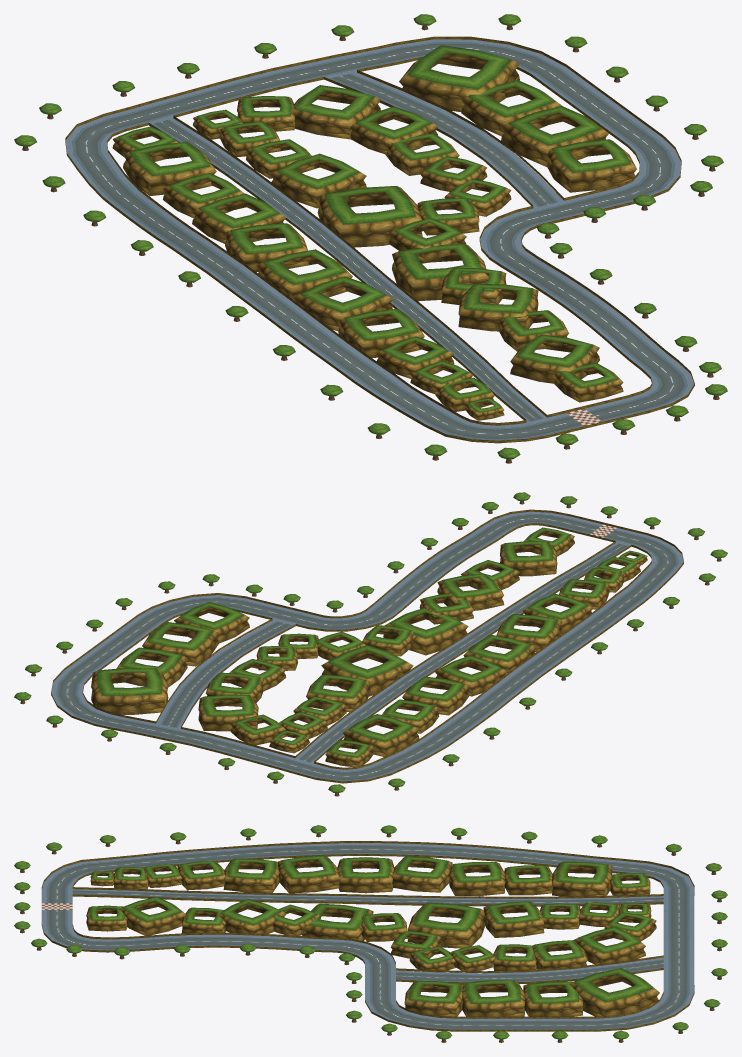
File: track02_1.FBX
The picture shows the model from 3 angles, top to bottom: view 1: azimuth 30°, elevation 25°; view 2: azimuth 150°, elevation 25°; view 3: azimuth 270°, elevation 25°; orthographic projection. The views are drawn at different scales.
Visible parts, largest first — view 1: background_cliff, track, fence, background_tree; view 2: background_cliff, track, fence, background_tree; view 3: background_cliff, track, fence, background_tree.
Boxes of the visible parts, x1=… form: background_cliff: x1=112, y1=45, x2=636, y2=420; track: x1=65, y1=39, x2=693, y2=440; fence: x1=65, y1=36, x2=694, y2=443; background_tree: x1=14, y1=14, x2=727, y2=463; background_cliff: x1=91, y1=527, x2=647, y2=766; track: x1=51, y1=511, x2=683, y2=781; fence: x1=51, y1=509, x2=683, y2=783; background_tree: x1=14, y1=492, x2=727, y2=796; background_cliff: x1=86, y1=855, x2=659, y2=1016; track: x1=41, y1=843, x2=694, y2=1029; fence: x1=41, y1=841, x2=694, y2=1031; background_tree: x1=14, y1=825, x2=727, y2=1042.
Size of the model in its own units: 50590 by 2999 by 74994.
